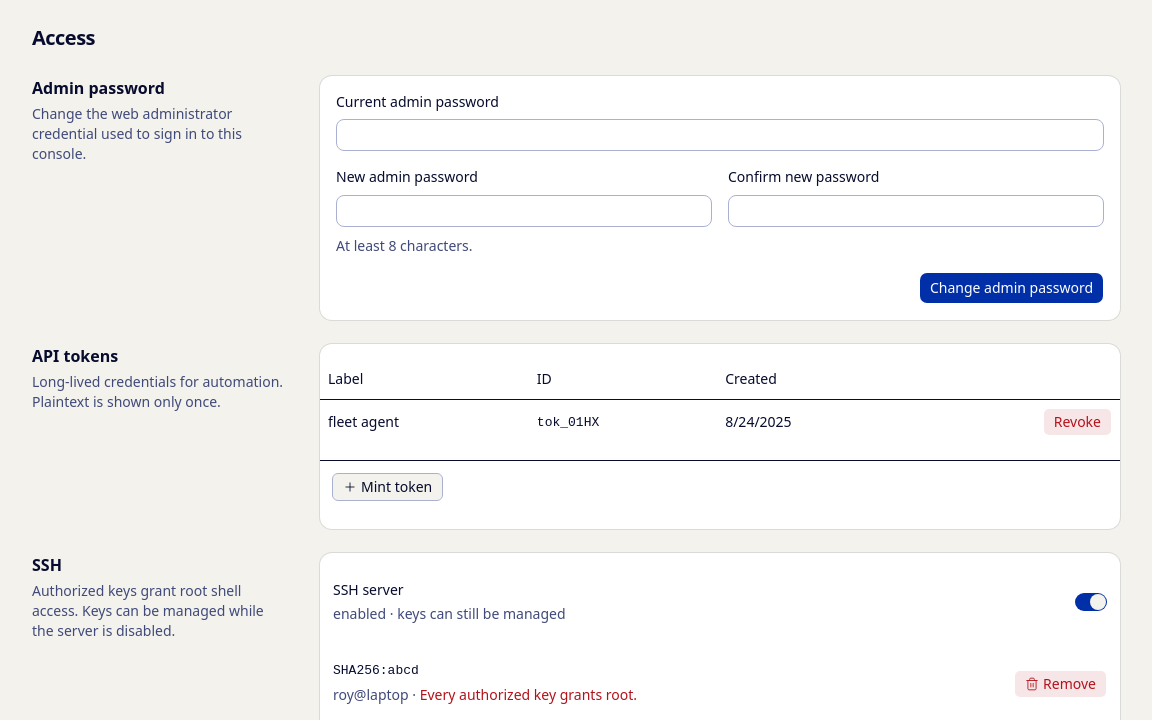
Test case: the access page › closes the revoke confirmation and reports which token went
The width and height of the screenshot is (1152, 720).
Click the button with aria-label "Revoke fleet agent".
click(1077, 422)  # box left=1043, top=408, right=1112, bottom=436
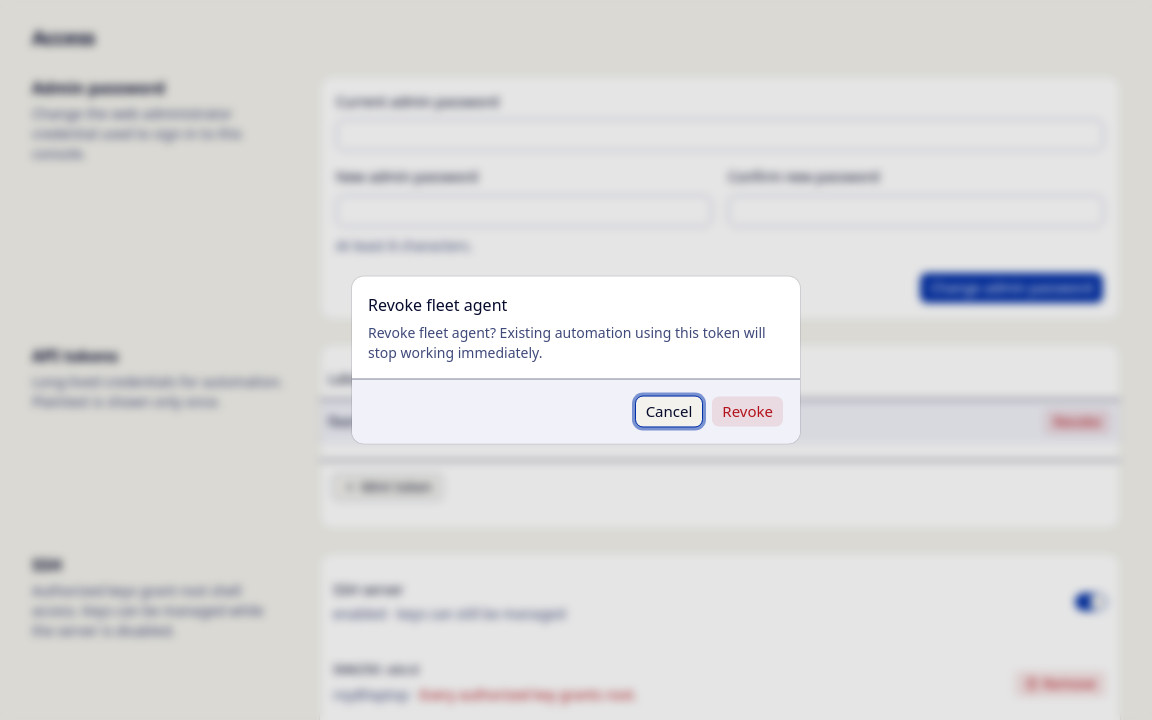
Click the button "Revoke".
click(748, 412)  # box left=711, top=396, right=784, bottom=428
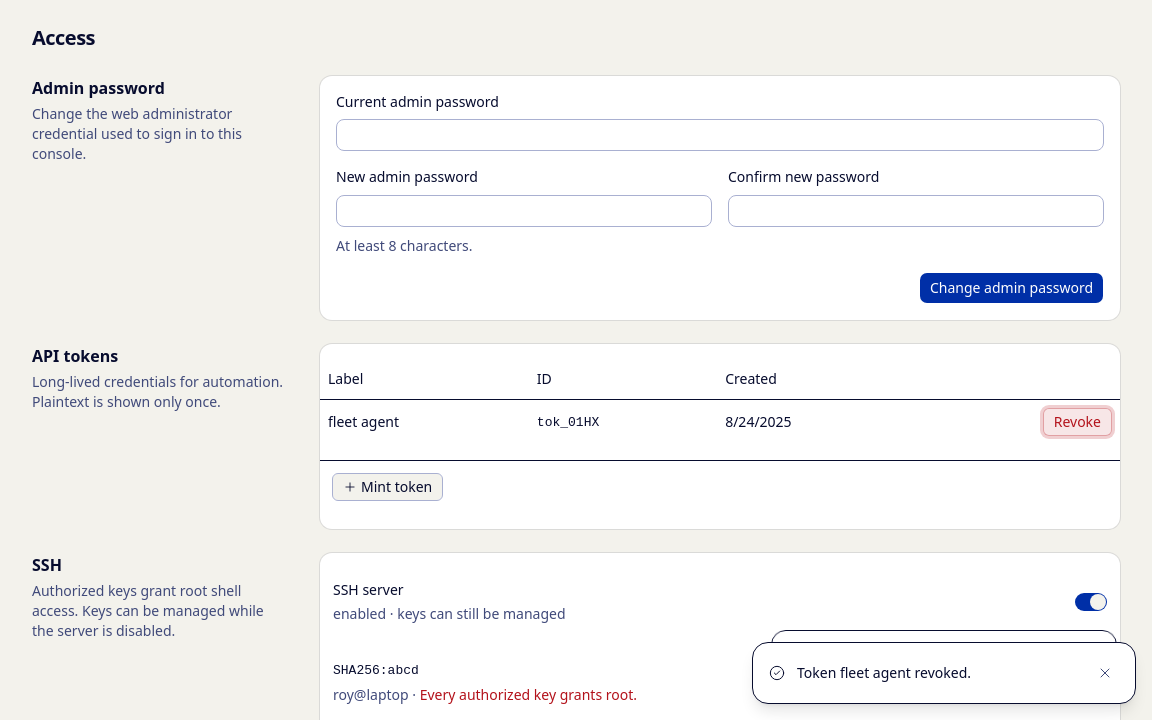
Now the heading "Token fleet agent revoked." is shown, box left=797, top=663, right=971, bottom=682
